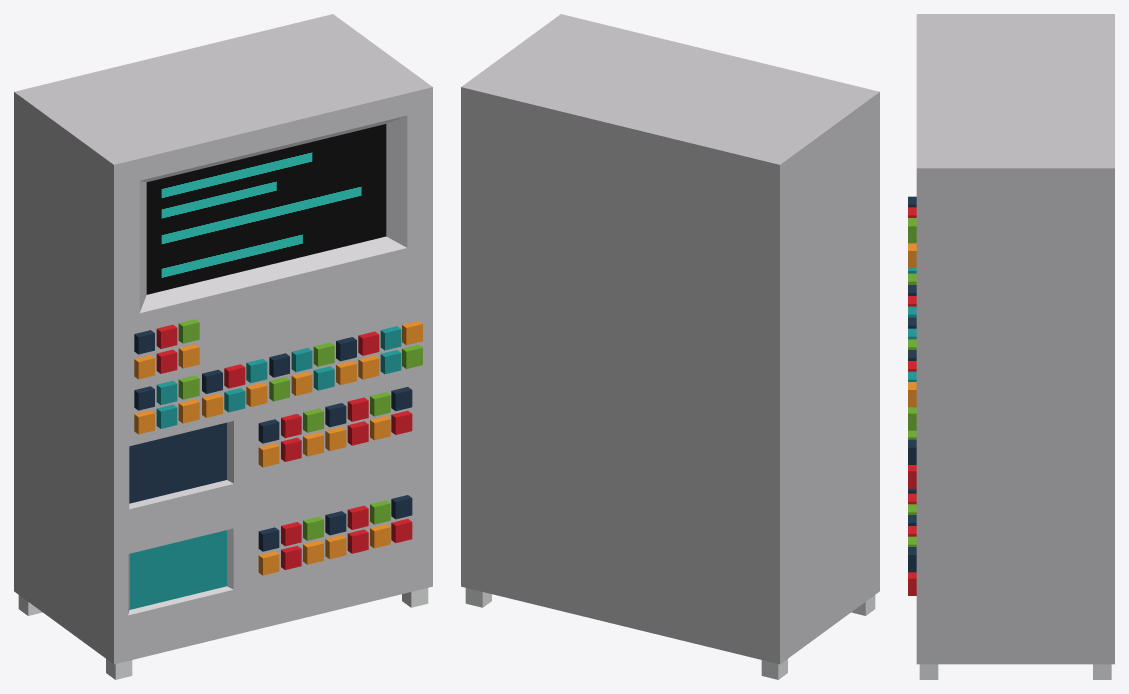
File: Machine2.fbx
3 renders of one model, left to right at view 1: azimuth 30°, elevation 25°; view 2: azimuth 150°, elevation 25°; view 3: azimuth 270°, elevation 25°, orthographic.
Parts seen in each view (by area): view 1: Cube.001_39, Cube.021_40; view 2: Cube.001_39, Cube.021_40; view 3: Cube.001_39, Cube.021_40.
Boxes of the visible parts, x1,y1,x2,y2 form: Cube.001_39: [14, 14, 432, 664]; Cube.021_40: [18, 588, 428, 679]; Cube.001_39: [461, 14, 879, 664]; Cube.021_40: [465, 588, 875, 679]; Cube.001_39: [916, 14, 1114, 664]; Cube.021_40: [919, 664, 1111, 679].
Bounding box in the file's own units: 49.26 × 76.28 × 27.86.
